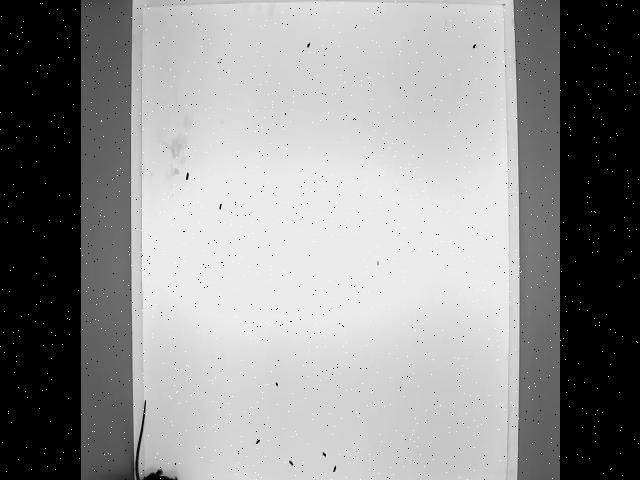Tikus: (128, 397, 191, 480)
